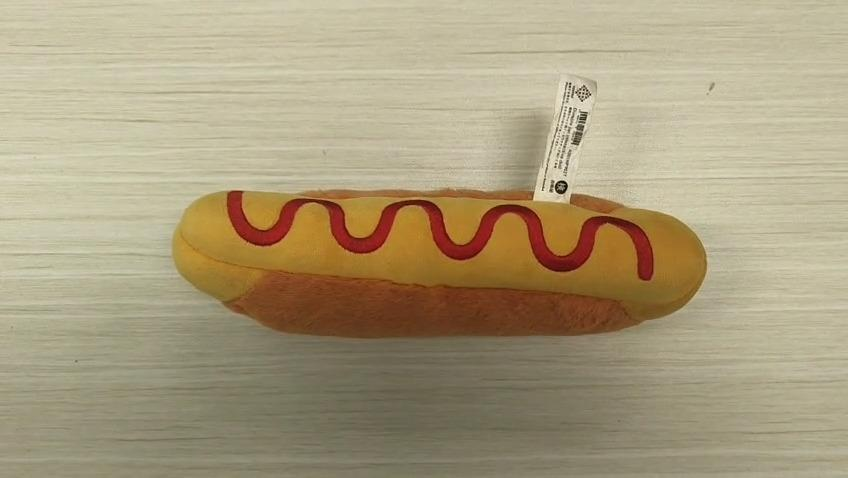hotdog: (171, 186, 708, 339)
